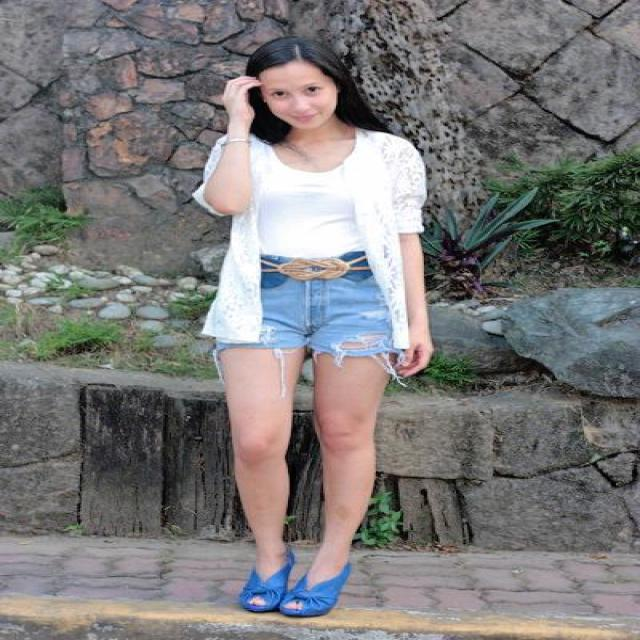shirt: (202, 131, 432, 365)
shoe: (238, 556, 344, 613)
shorts: (253, 273, 408, 369)
